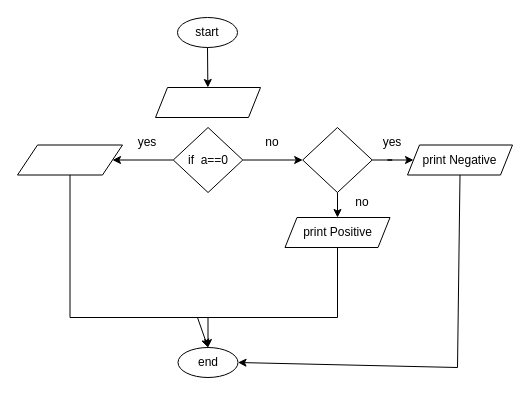
The diagram is 530 pixels wide and 395 high, and some of its shapes have lost their labels. Each missing label, with the centre of its shape:
if a < 0: the point at 337,159
print zero: the point at 69,159
Read a: the point at 207,102
